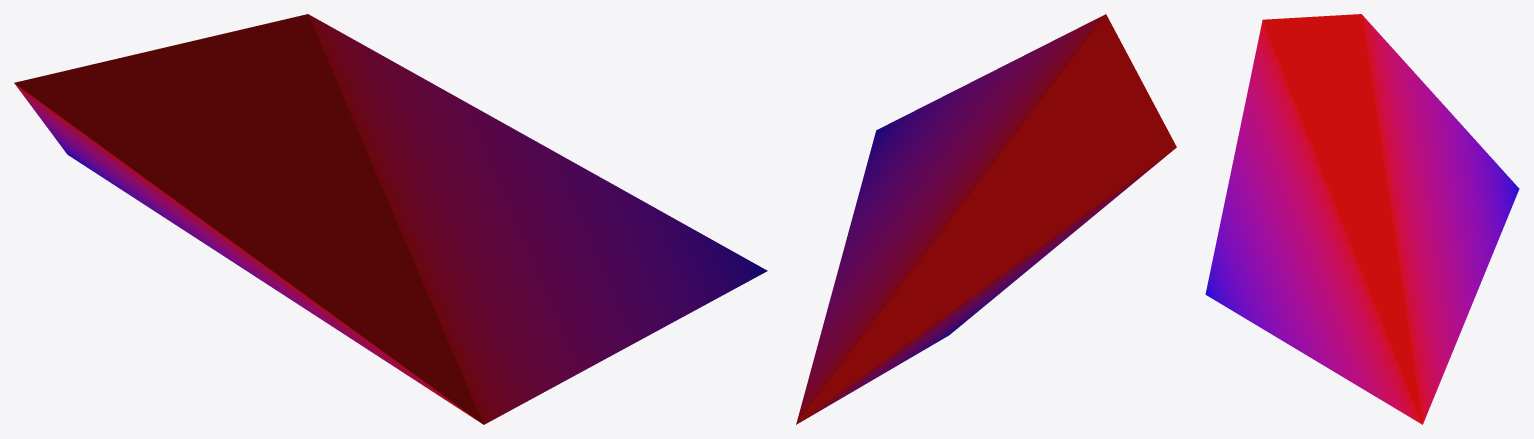
The model's file is border_patch_6.obj.
The picture shows the model from 3 angles, left to right: view 1: azimuth 30°, elevation 25°; view 2: azimuth 150°, elevation 25°; view 3: azimuth 270°, elevation 25°; orthographic projection. The views are drawn at different scales.
Size of the model in its own units: 1.39 by 1.31 by 1.16.
